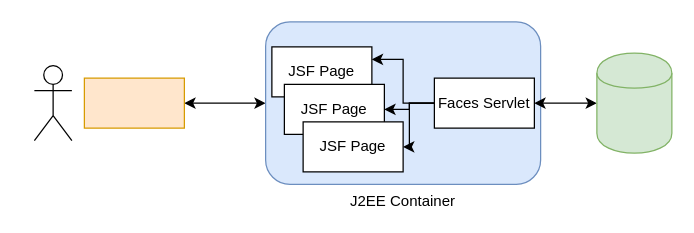
Some shapes in this 694 by 233 pixel diagram are drawn without their labels. The box of each missing label's shape, as (x1, y1, x2, y2) in pixels:
Client Browser: (83, 77, 184, 128)
Data Store: (596, 52, 672, 153)
Userbase: (33, 64, 72, 141)
